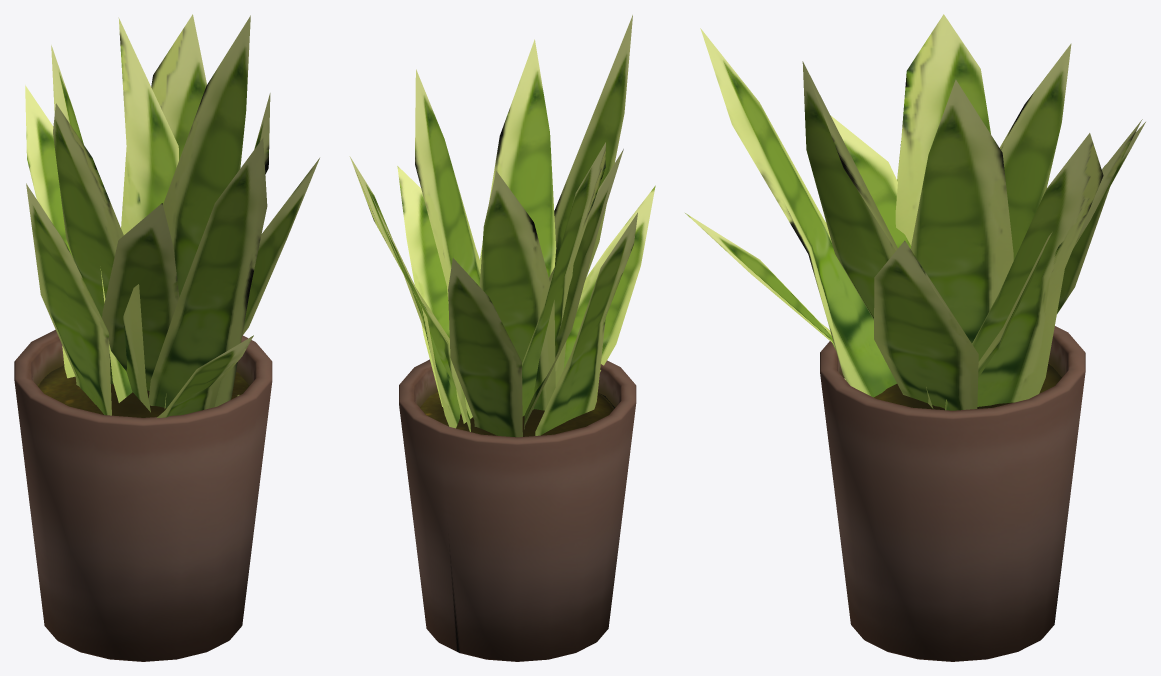
Rendered from Flowerpot.FBX.
The picture shows the model from 3 angles, left to right: view 1: azimuth 30°, elevation 25°; view 2: azimuth 150°, elevation 25°; view 3: azimuth 270°, elevation 25°; orthographic projection. The views are drawn at different scales.
Visible parts, largest first — view 1: Object003; view 2: Object003; view 3: Object003.
Part boxes in pixels (box(x1,y1,x2,y2)): Object003: box(14, 14, 319, 661); Object003: box(349, 15, 655, 661); Object003: box(685, 14, 1145, 661).
Size of the model in its own units: 62.52 by 124 by 87.5.
